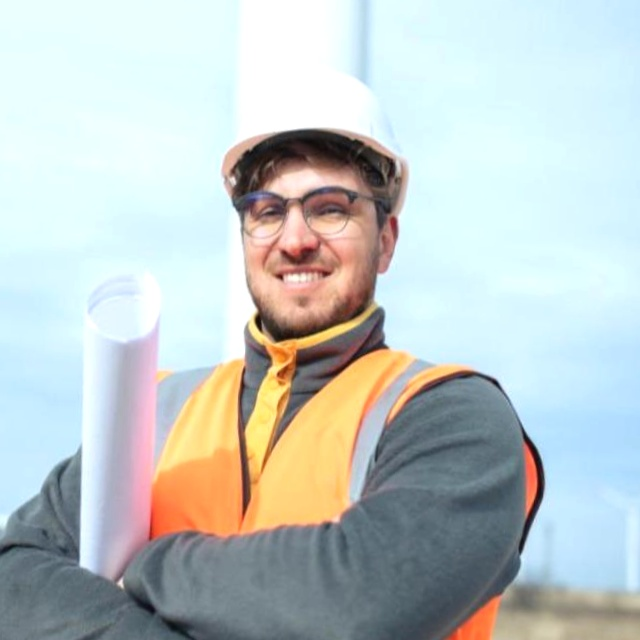Con_Chaleco: (119, 330, 527, 640)
Sin_Casco_Mascarrilla: (210, 64, 414, 332)
